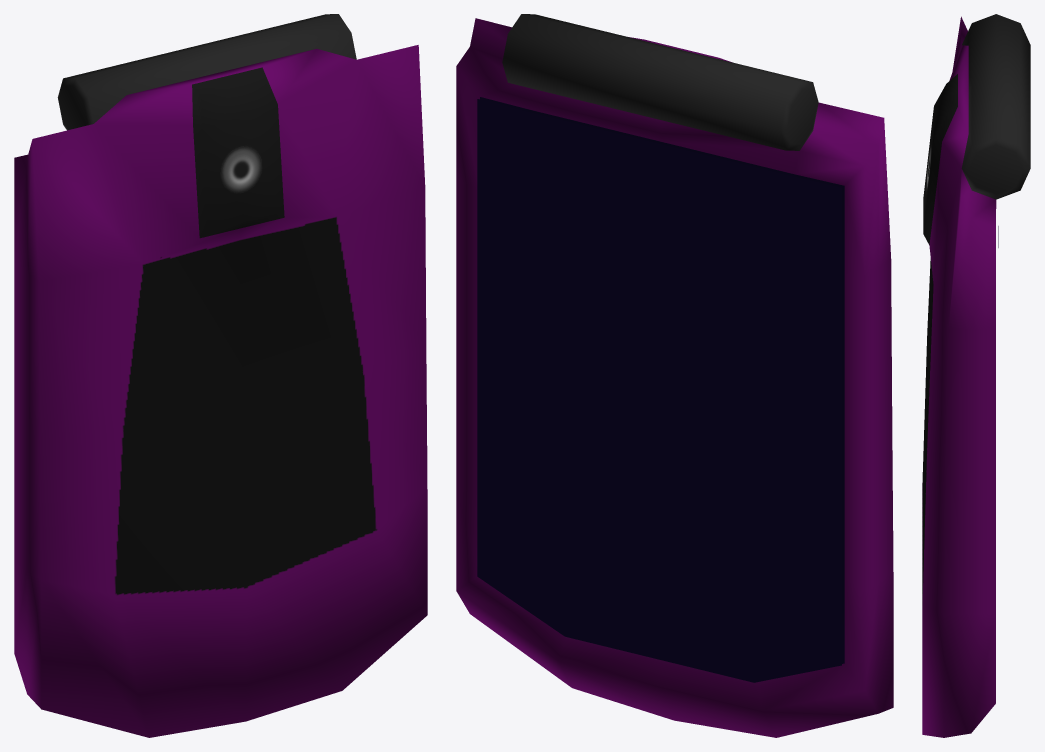
The model's file is Phone Screen Menu.fbx.
3 views of the same model, side by side, from view 1: azimuth 30°, elevation 25°; view 2: azimuth 150°, elevation 25°; view 3: azimuth 270°, elevation 25° (orthographic). The views are drawn at different scales.
Parts seen in each view (by area): view 1: Flip Phone Top; view 2: Flip Phone Separate Screen, Flip Phone Top; view 3: Flip Phone Top.
Part boxes in pixels (left/top/right/bottom): Flip Phone Top: left=14, top=14, right=427, bottom=737; Flip Phone Separate Screen: left=477, top=99, right=841, bottom=682; Flip Phone Top: left=456, top=14, right=893, bottom=737; Flip Phone Top: left=922, top=14, right=1030, bottom=737.
Size of the model in its own units: 10.2 by 16.33 by 2.59.
